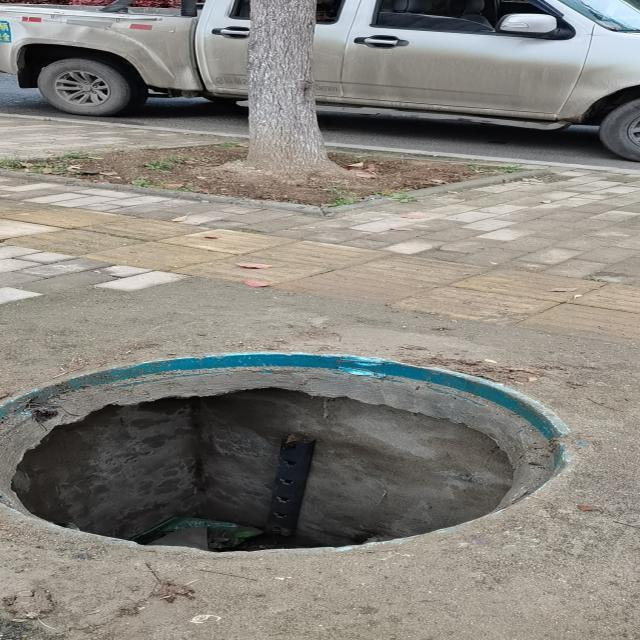Faulty: (0, 352, 576, 556)
